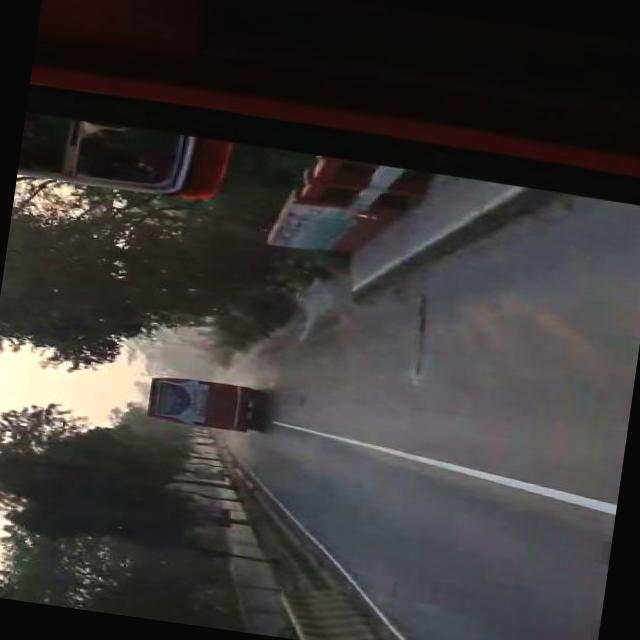bus: (140, 371, 258, 432)
